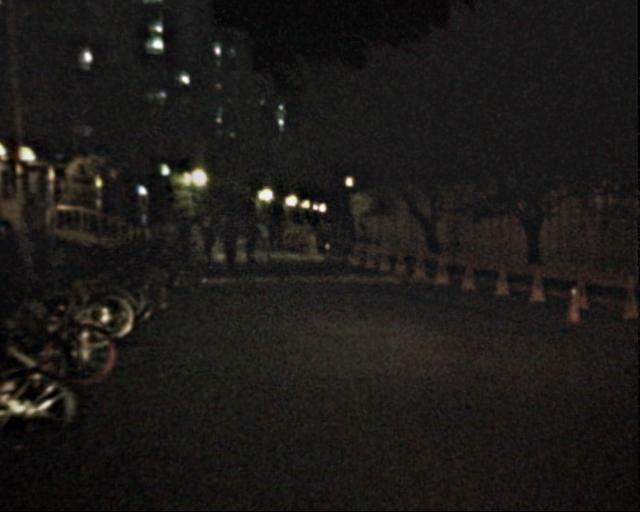person: (14, 216, 41, 283), (43, 220, 68, 282), (356, 220, 377, 271), (223, 220, 244, 270), (176, 215, 194, 260), (200, 213, 218, 257), (240, 215, 258, 259), (266, 215, 283, 253), (217, 213, 233, 252)
